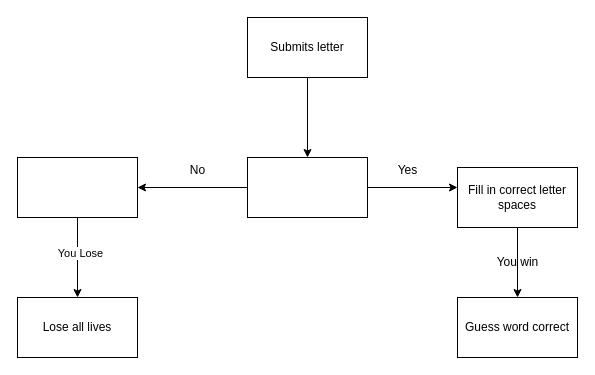
This 595x375 diagram has some shape labels left out. The shapes that lost their labels are listed below. From the top down, each one's centre as x and y in pixels, then its label:
At (x=77, y=187): "Lose a life in hangman".
At (x=307, y=187): "Guess Correct".
